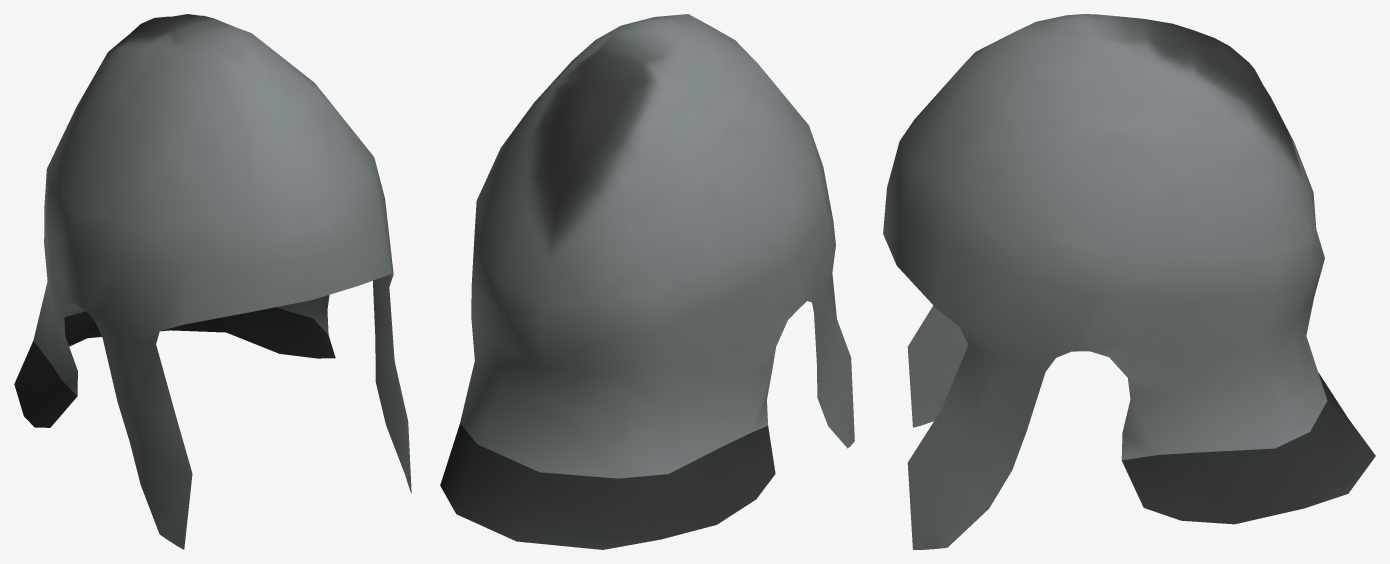
The model's file is inca_t_1.dae.
The picture shows the model from 3 angles, left to right: view 1: azimuth 30°, elevation 25°; view 2: azimuth 150°, elevation 25°; view 3: azimuth 270°, elevation 25°; orthographic projection. The views are drawn at different scales.
Visible parts, largest first — view 1: inca_t; view 2: inca_t; view 3: inca_t.
Part boxes in pixels (x1,y1,x2,y2): inca_t: [14, 14, 411, 549]; inca_t: [440, 14, 854, 549]; inca_t: [883, 14, 1375, 549].
Bounding box in the file's own units: 0.4658 × 0.6324 × 0.6655.
